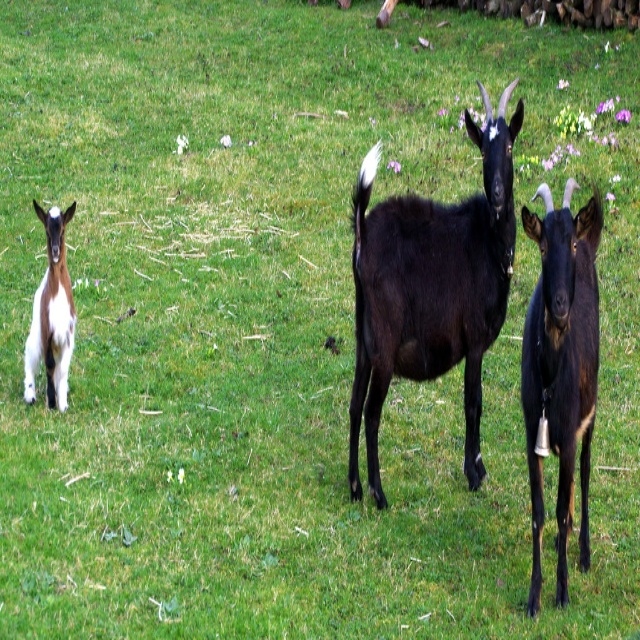Goat: (352, 67, 522, 510), (519, 172, 602, 619), (20, 194, 78, 411)
